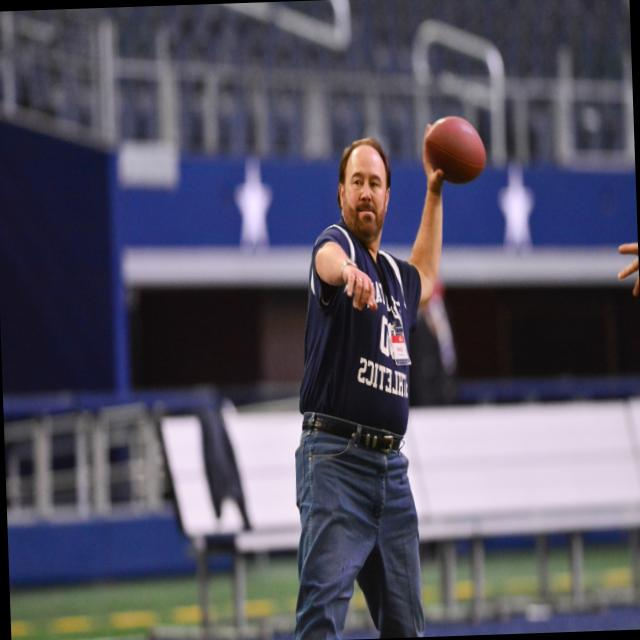Ball: (424, 111, 486, 186)
